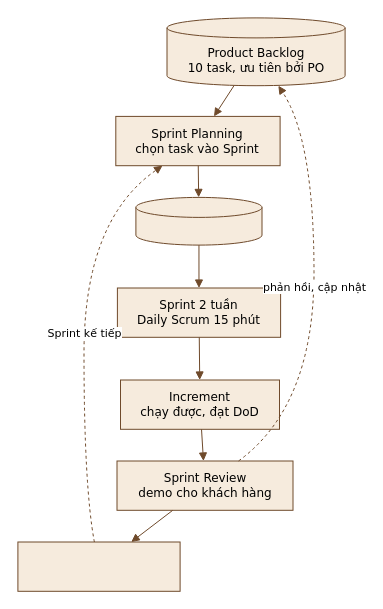
The diagram is 383 pixels wide and 609 high, and some of its shapes have lost their labels. Here are the shapes that lost their labels. From the top down, the centre of each, then its label:
pixel 198 220: Sprint Backlog
pixel 98 566: Sprint Retrospective cải tiến quy trình
